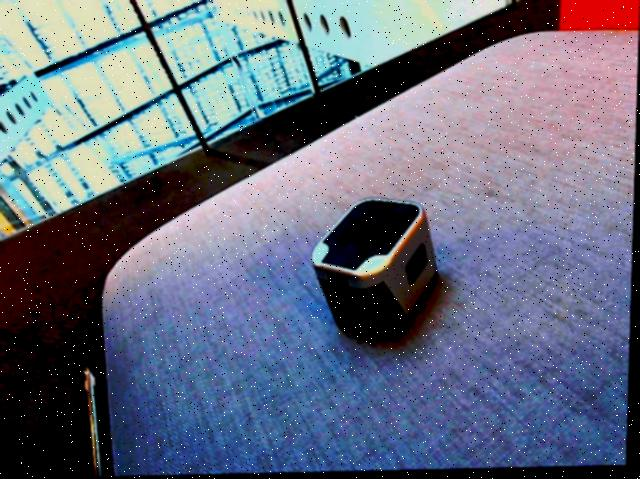adapter: (310, 198, 441, 343)
